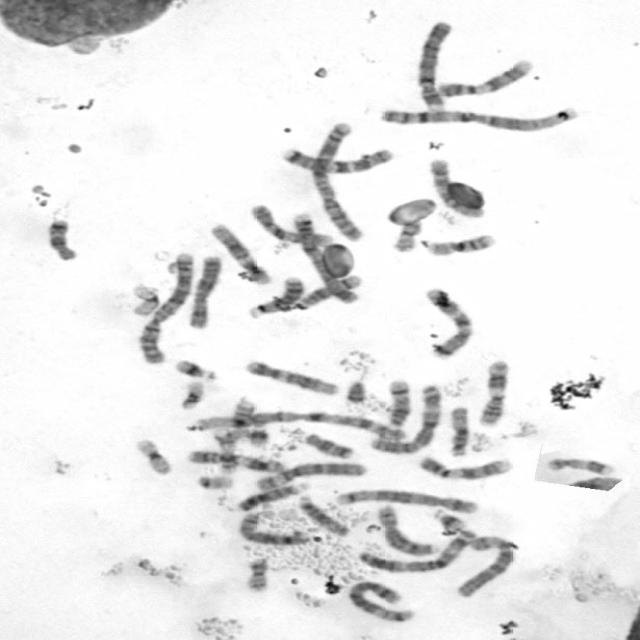A1: (182, 409, 412, 440), (374, 102, 578, 134)
A2: (133, 249, 198, 366), (307, 118, 367, 243)
A3: (354, 526, 480, 574), (364, 382, 444, 455)
B4: (290, 210, 362, 306), (412, 18, 454, 114)
B5: (331, 486, 480, 515), (344, 578, 416, 623)
C10: (247, 200, 335, 246), (428, 157, 488, 220)
C11: (183, 448, 286, 474), (474, 357, 510, 428)
C12: (206, 220, 273, 286), (242, 357, 341, 397)
C6: (451, 533, 517, 599), (251, 458, 368, 492)
C7: (419, 284, 476, 360), (276, 143, 394, 176)
C8: (374, 503, 438, 557), (235, 514, 313, 548)
C9: (433, 56, 537, 100), (415, 452, 514, 482)
D13: (243, 273, 305, 318), (233, 478, 311, 512)
D14: (292, 273, 363, 312), (384, 377, 412, 427)
D15: (294, 492, 350, 538), (446, 404, 472, 458)
E16: (422, 229, 498, 258), (229, 394, 259, 443)
E17: (210, 427, 242, 475), (543, 455, 616, 476)
E18: (299, 429, 355, 459), (44, 216, 79, 263)
F19: (132, 436, 174, 476), (127, 280, 162, 318)
F20: (240, 554, 272, 594), (389, 218, 424, 252)
G21: (170, 356, 218, 381), (428, 506, 467, 534), (244, 424, 272, 448)
G22: (180, 378, 207, 412), (193, 472, 235, 490)
X: (183, 253, 224, 329)
Y: (342, 377, 368, 405)
